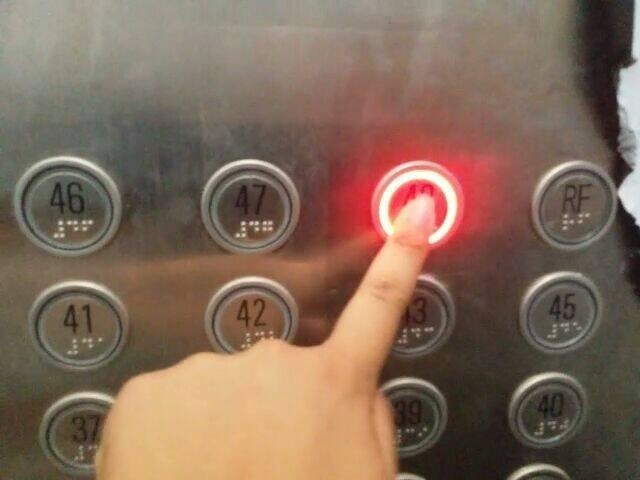39: (366, 374, 451, 458)
40: (503, 369, 590, 451)
41: (23, 277, 131, 376)
42: (200, 273, 301, 359)
45: (514, 268, 605, 358)
46: (10, 153, 126, 260)
47: (196, 155, 304, 259)
RF: (526, 157, 619, 254)
